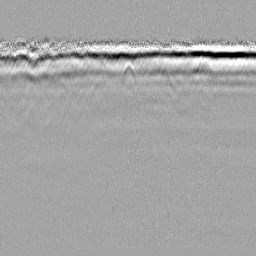cavity: (119, 61, 137, 86)
